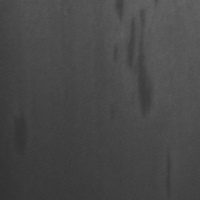inclusion: (107, 1, 156, 119), (9, 108, 37, 161), (158, 143, 177, 200), (100, 96, 120, 129)
